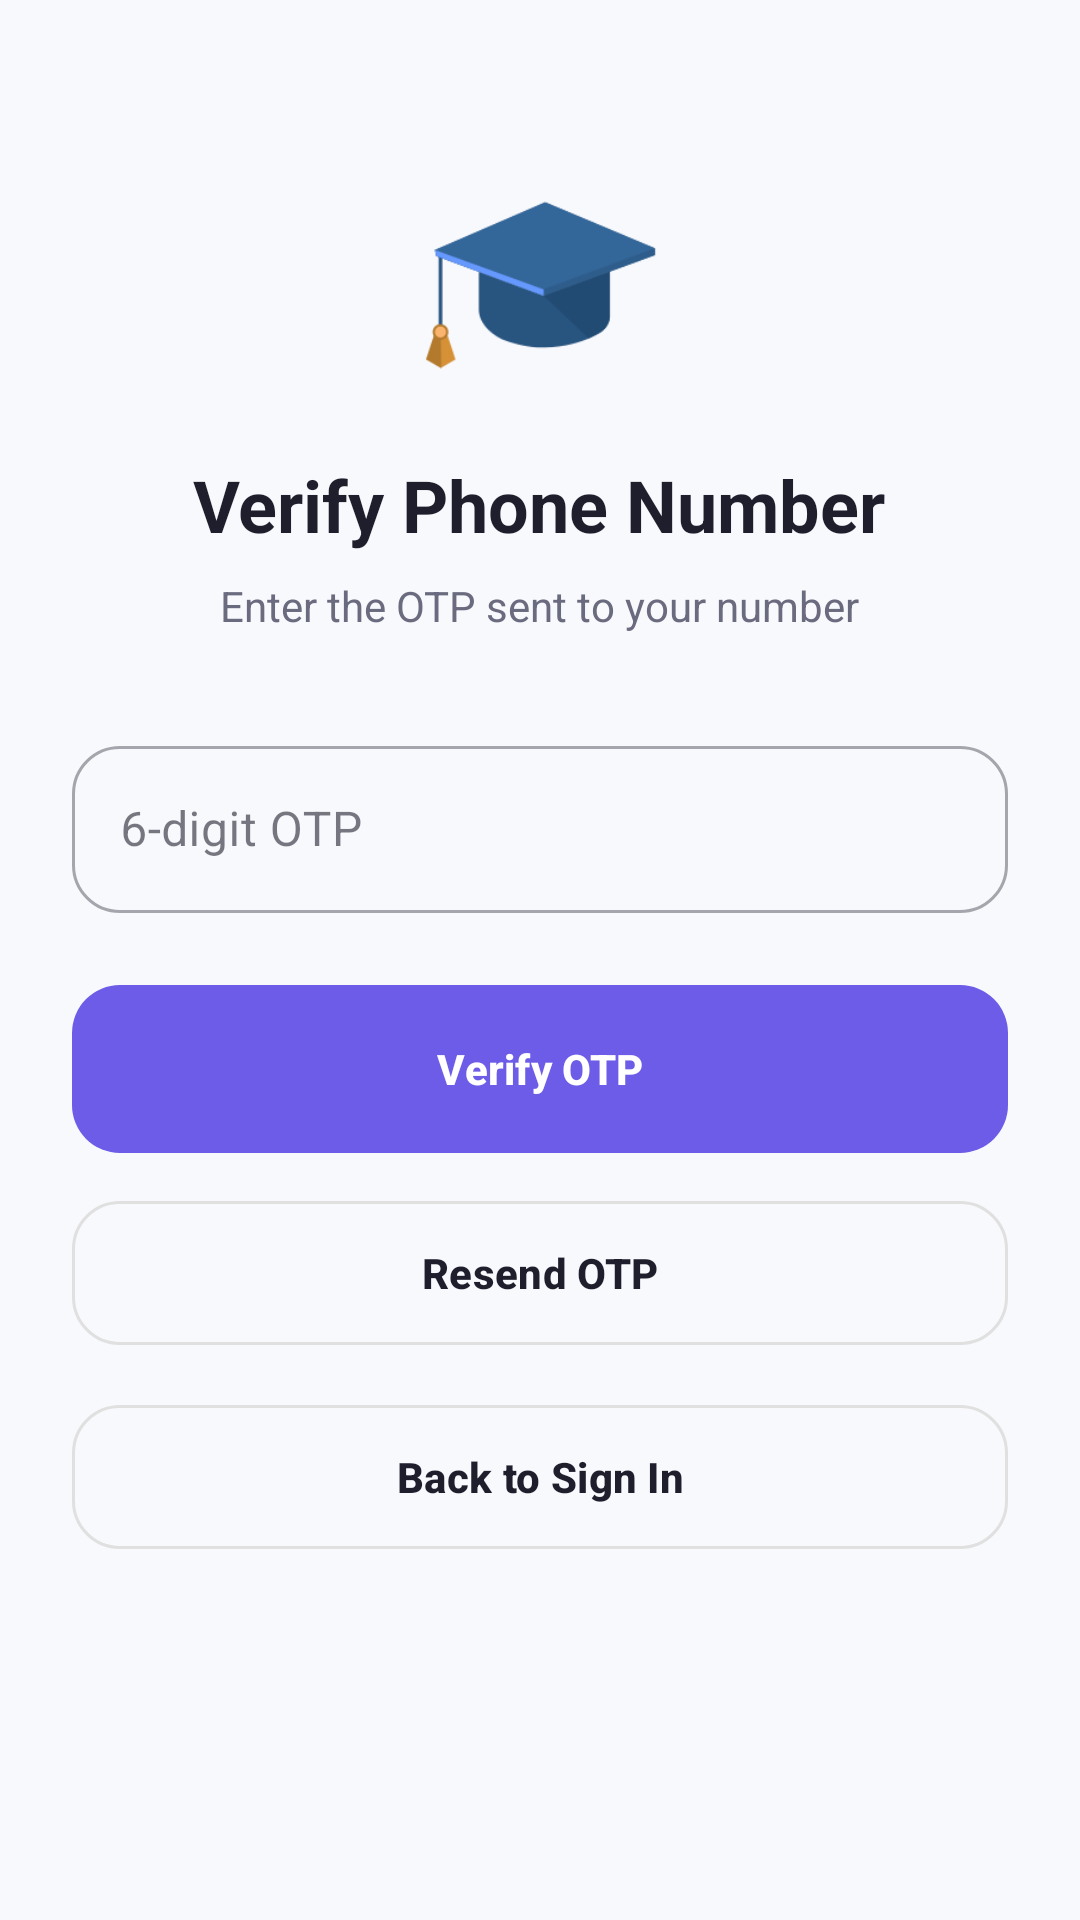

Icon bounding boxes for this 1080 x 1920 phone screenshot, format detection(x1, y1, x2, y2):
graduationcap: detection(426, 202, 656, 369)
